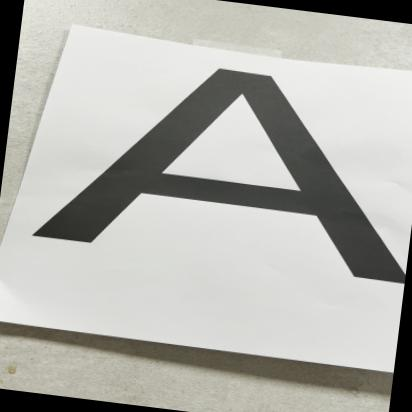seat: (0, 30, 412, 285)
